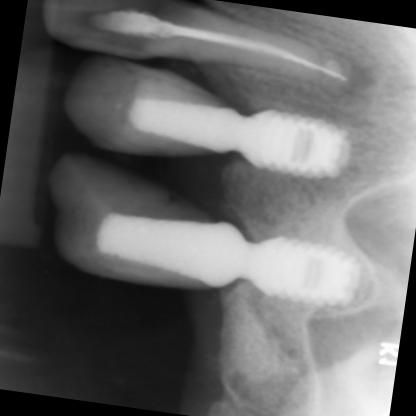Bicon: (240, 224, 368, 318), (237, 100, 358, 188)
